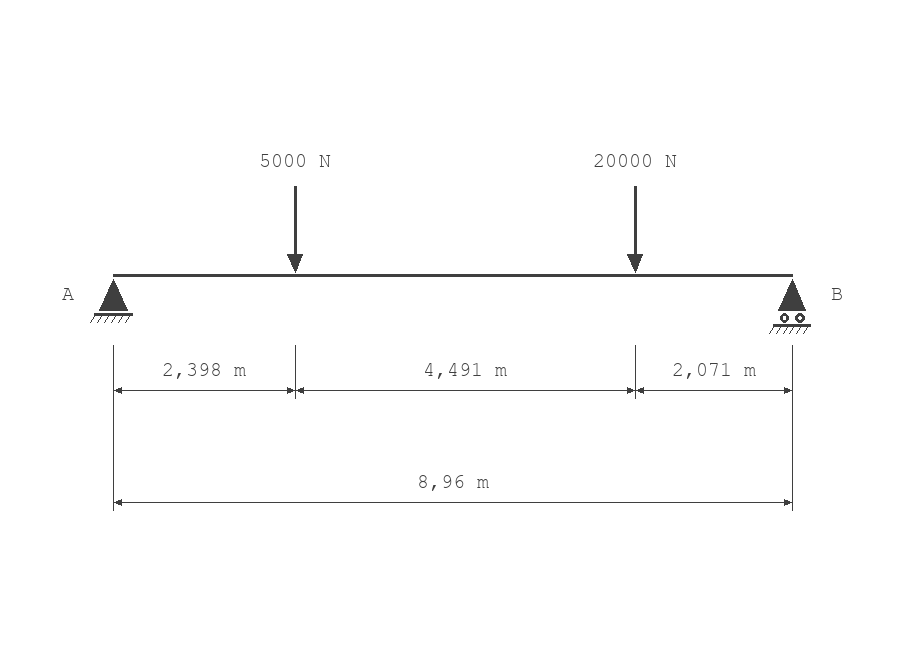pin_support: (90, 279, 133, 323)
point_load: (287, 186, 303, 273), (627, 186, 643, 273)
roller_support: (769, 279, 811, 334)
